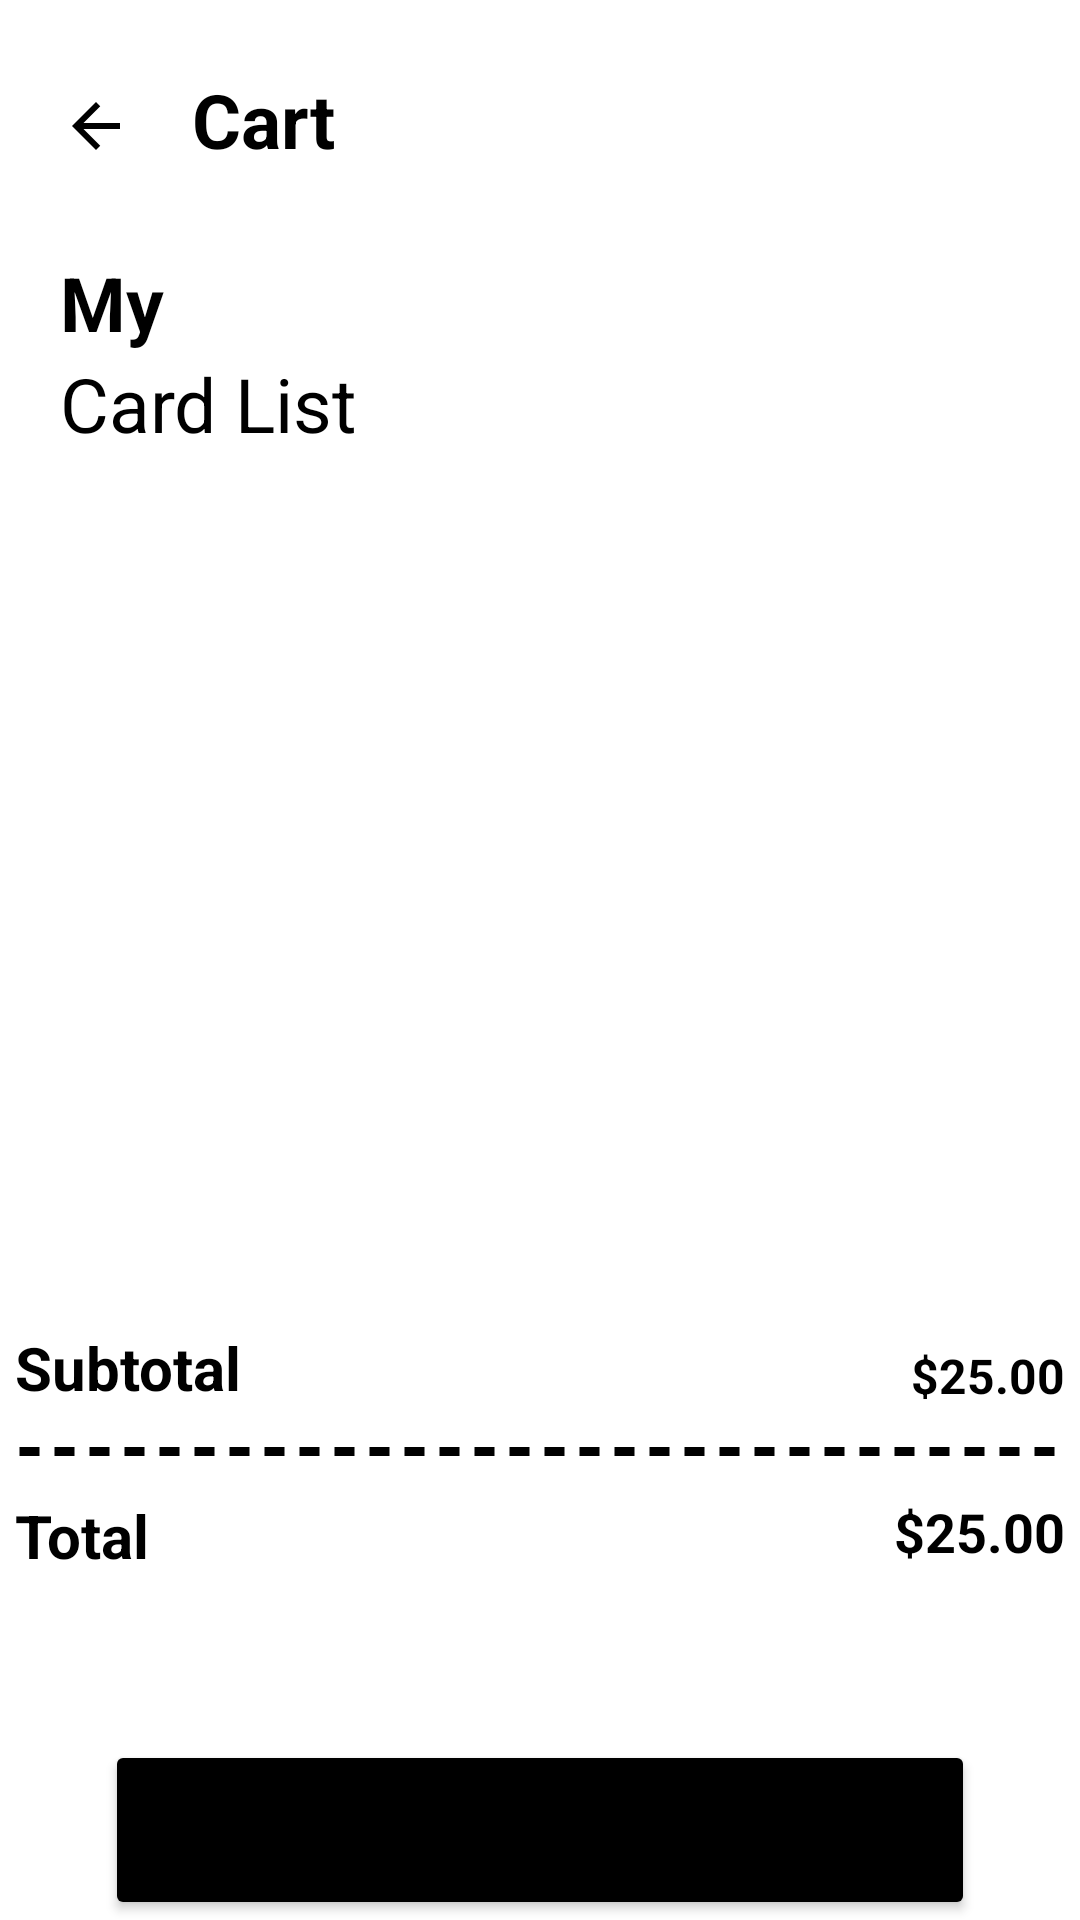

Where icons sit on this 1080w x 1920h app screen, as (x1, y1, x2, y2):
arrow back: (72, 102, 120, 150)
